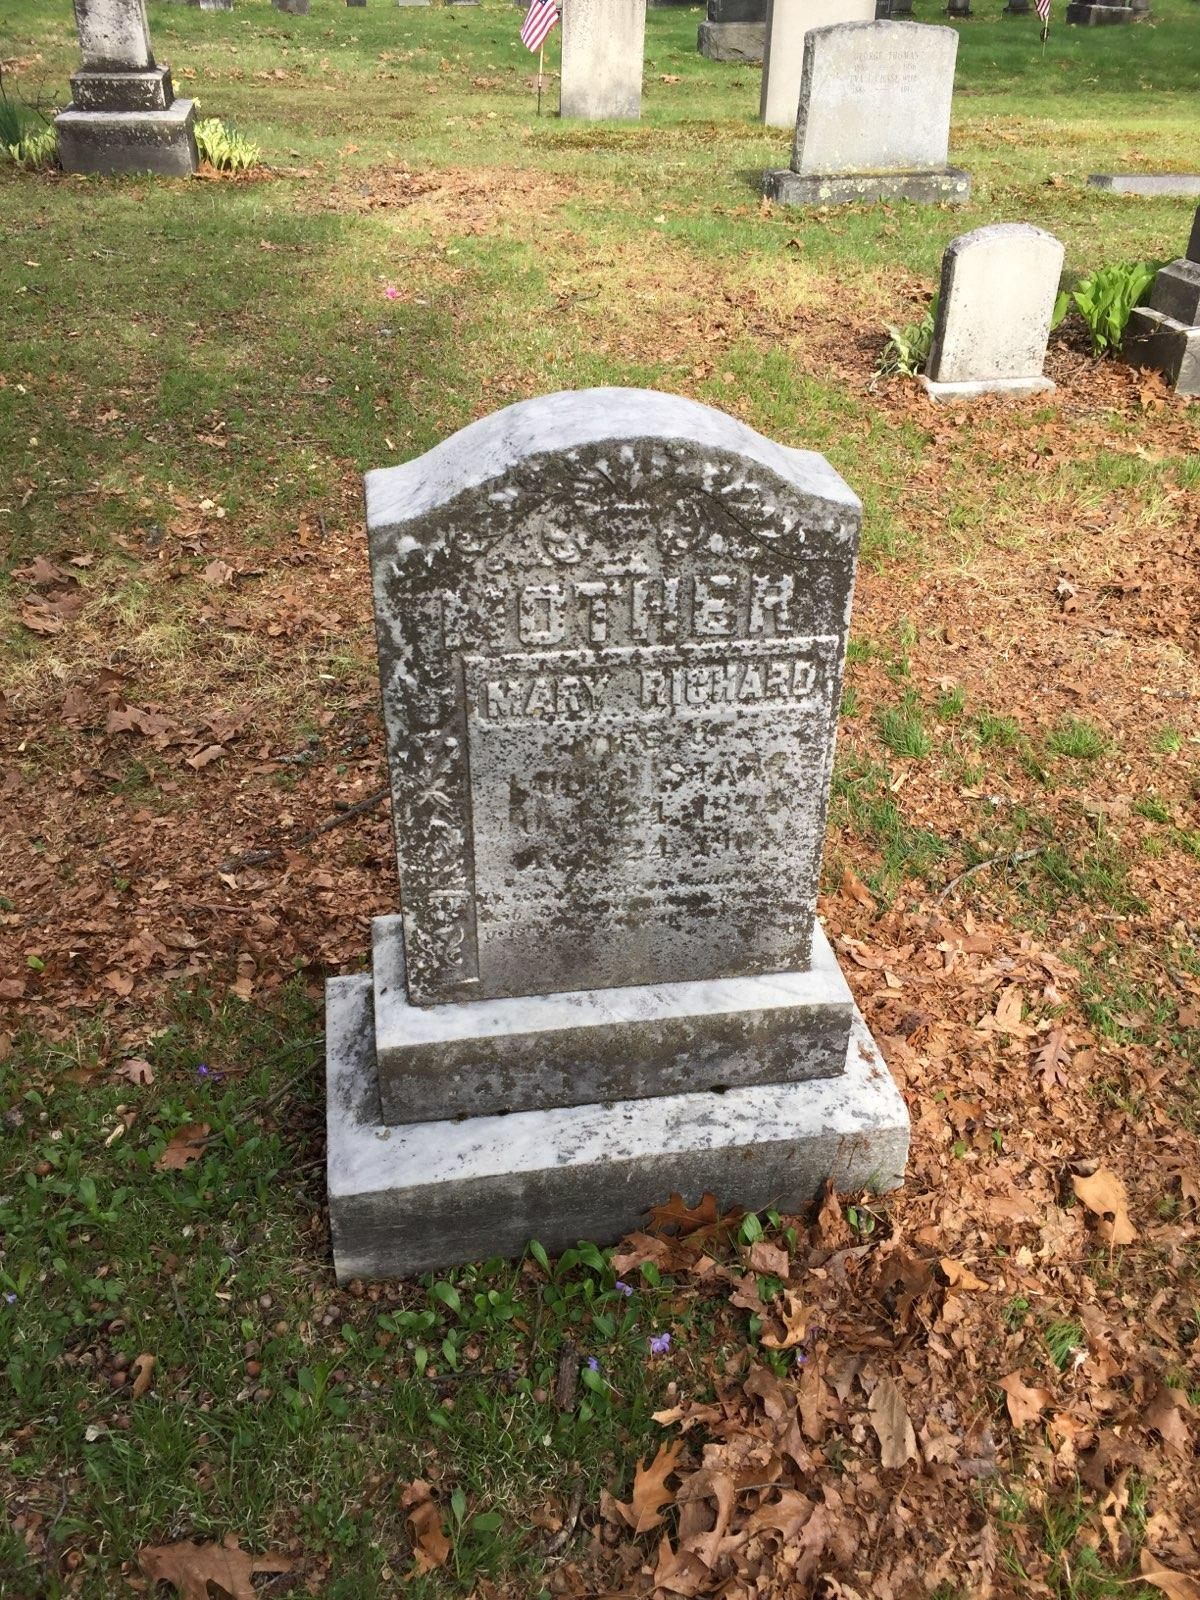upright: (363, 389, 861, 1125)
